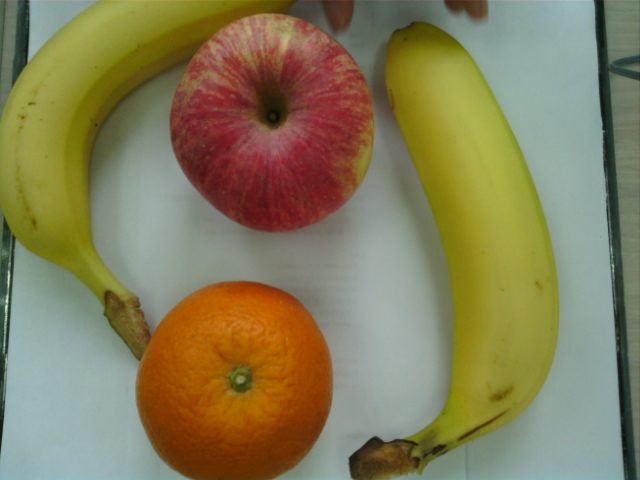normal_apple: (171, 12, 373, 226)
normal_banana: (381, 23, 563, 472), (1, 3, 292, 283)
normal_orange: (130, 276, 334, 480)
